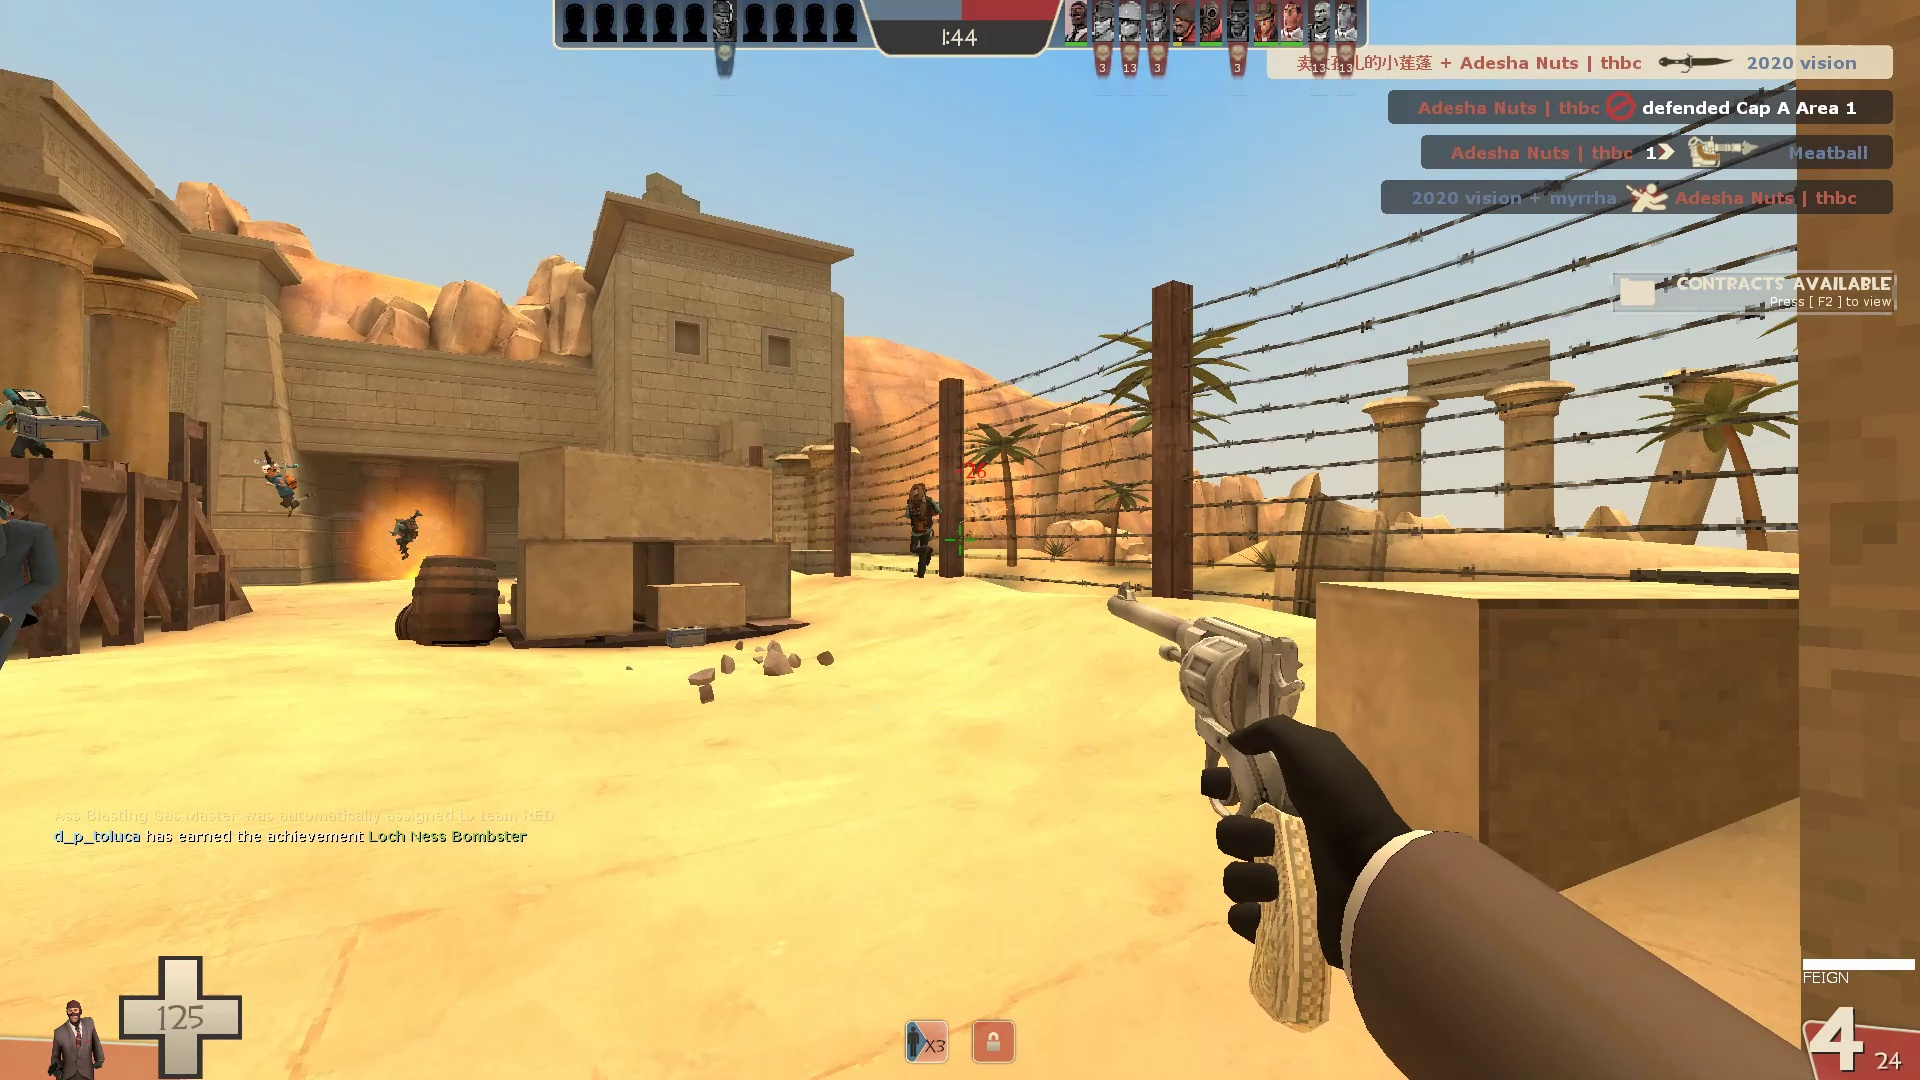blu_medic: (1, 382, 69, 483)
blu_scout: (253, 448, 316, 518)
blu_sniper: (895, 479, 945, 584)
blu_soldier: (382, 505, 427, 568)
blu_spy: (1, 488, 69, 766)
